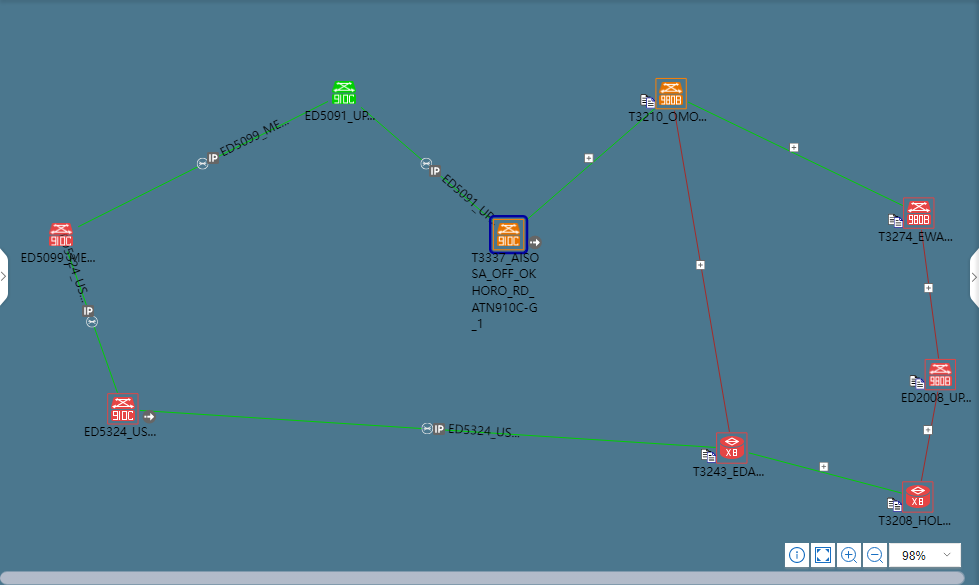ATN_Orange: (658, 81, 687, 110), (499, 222, 520, 251)
ATN_Red: (107, 393, 136, 429), (903, 198, 938, 225), (927, 363, 956, 392), (52, 222, 75, 251)
Link_Green: (76, 100, 324, 233), (138, 406, 713, 453), (688, 100, 907, 208), (358, 106, 488, 218), (529, 112, 649, 218), (64, 253, 116, 387), (750, 449, 899, 494)
Link_Red: (670, 112, 736, 435), (921, 242, 944, 361), (921, 393, 944, 465)
Router_Red: (719, 436, 748, 465), (903, 485, 930, 514)
